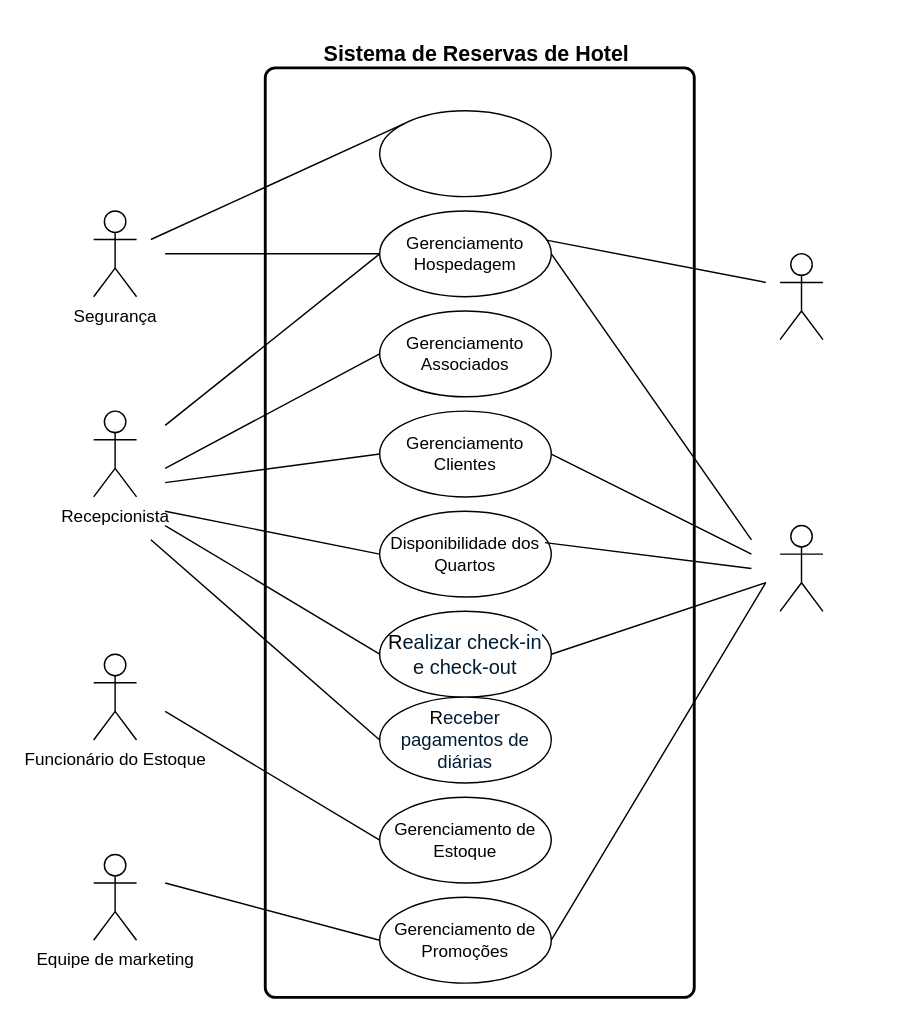
The diagram is 915 pixels wide and 1022 high, and some of its shapes have lost their labels. Each missing label, with the centre of its shape:
"Cliente" belongs at pixel 801 567.
"Funcionário da limpeza" belongs at pixel 801 296.
"Sistemas de Segurança" belongs at pixel 464 153.
